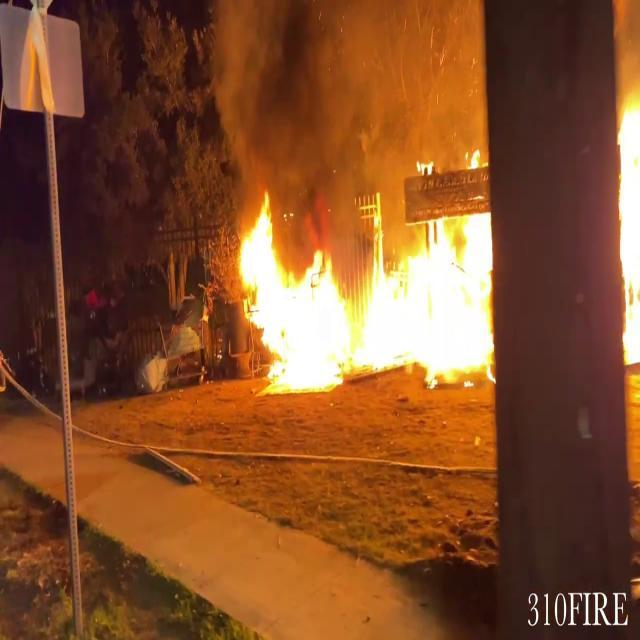Fire: (228, 186, 498, 394), (610, 76, 640, 376)
Smoke: (200, 0, 494, 194)
